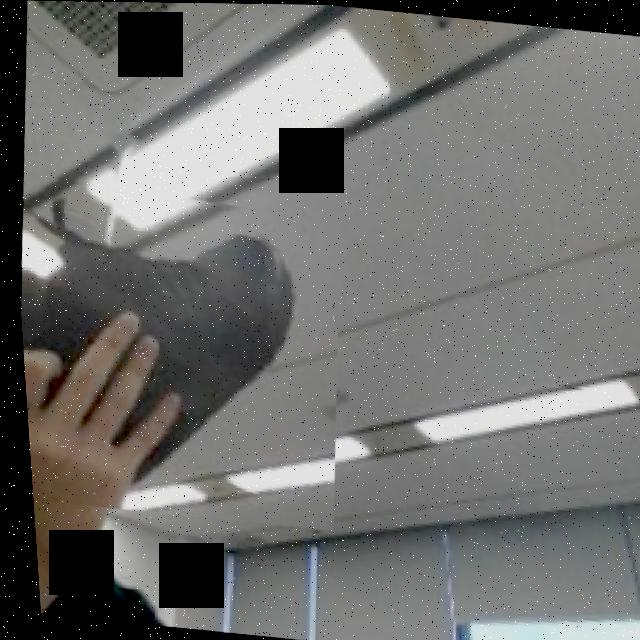shoe: (9, 172, 354, 529)
